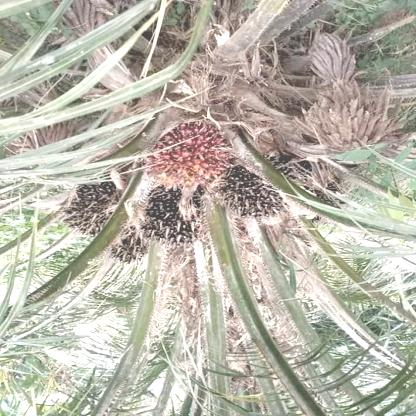1: (146, 124, 228, 188)
palm-oil: (141, 191, 211, 244), (220, 167, 285, 222), (61, 179, 122, 237), (101, 232, 149, 266)
